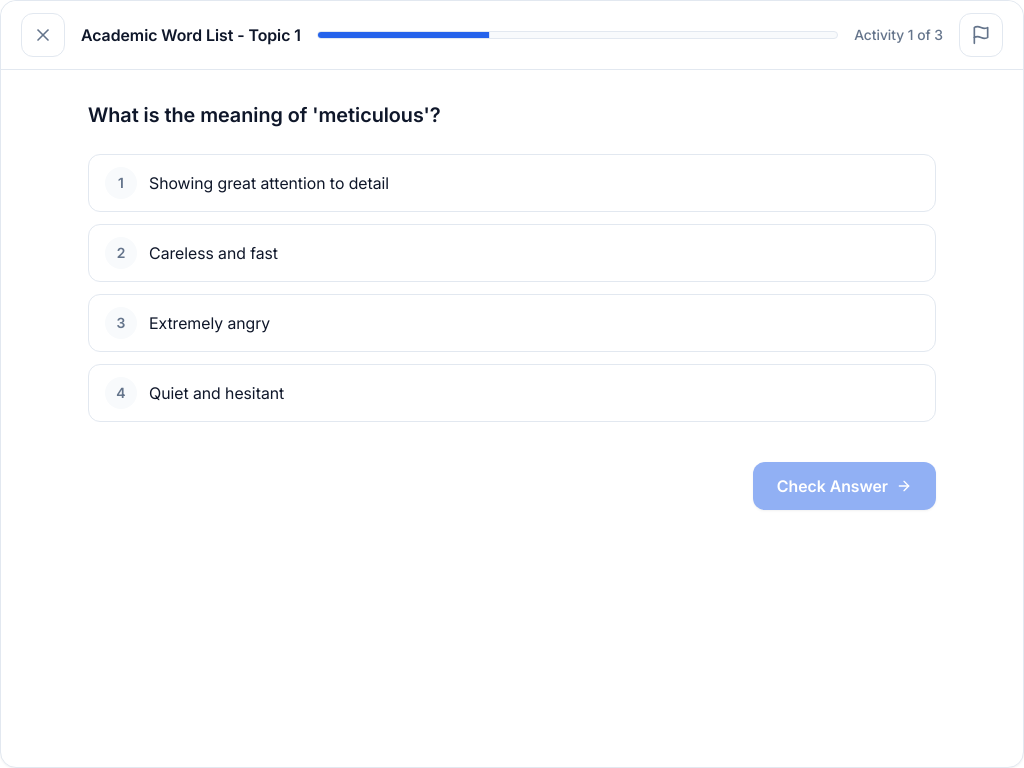
LessonPage Runner (P10.3) › handles exit dialog confirmation flow
Expected: the heading "What is the meaning of 'meticulous'?" is shown, x1=88 y1=103 x2=441 y2=127
// Click exit header button
Click the button named "Exit": (43, 35) x1=21 y1=13 x2=65 y2=57
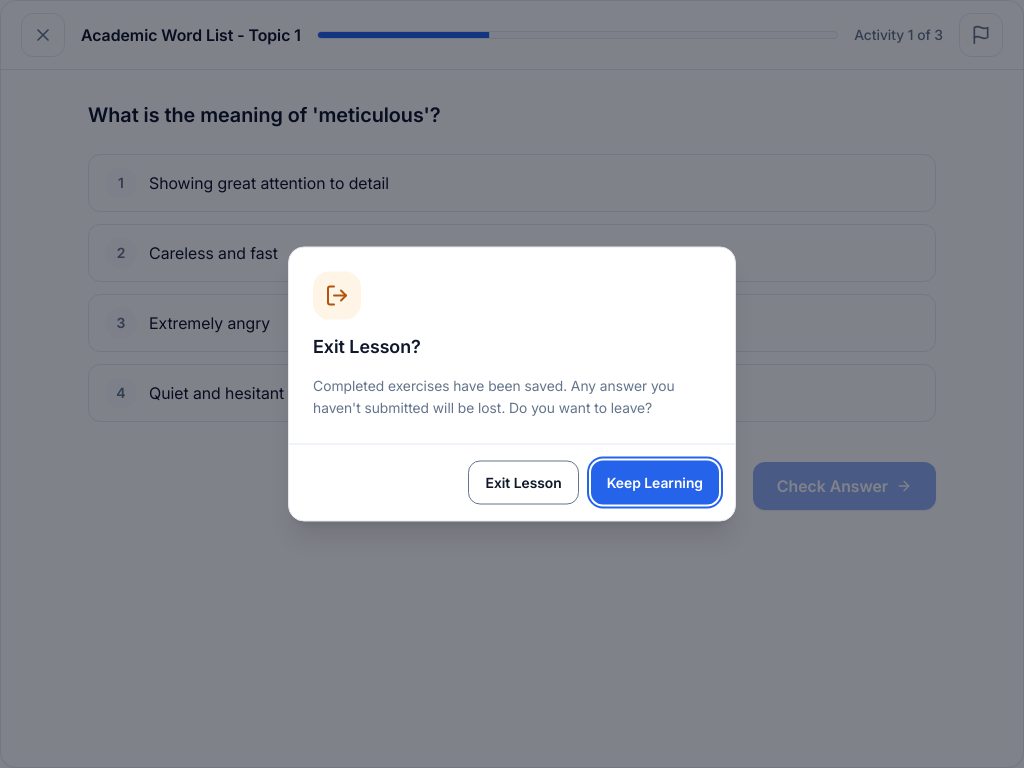
Now the dialog "Exit Lesson?" is shown, box x1=288 y1=246 x2=736 y2=522
Now the heading "Exit Lesson?" is shown, box x1=313 y1=336 x2=421 y2=356
// Clicking 'Keep Learning' cancels
Click the button "Keep Learning": (655, 482) x1=591 y1=460 x2=719 y2=504
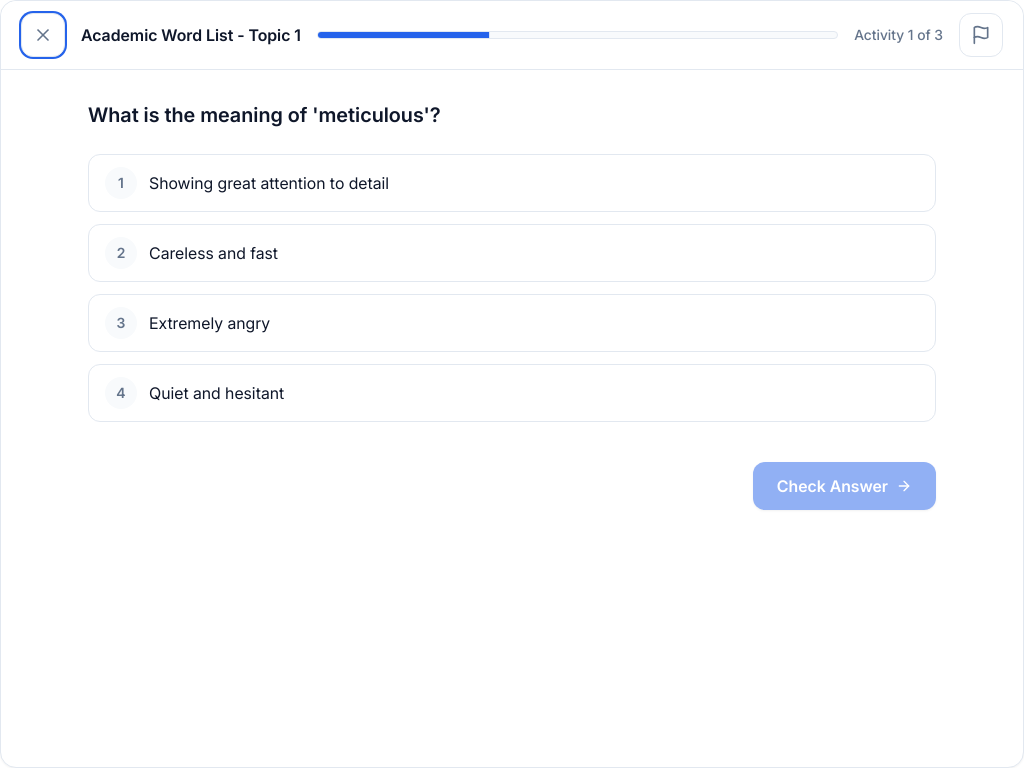
Now the dialog is gone
